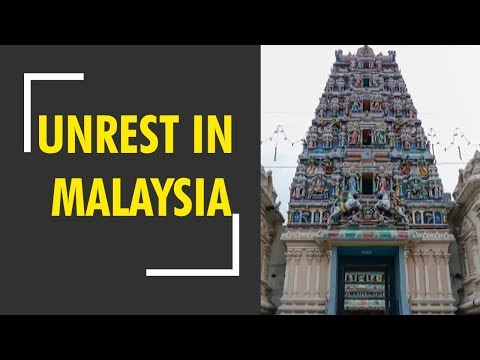Hindu Temple: (272, 46, 453, 318)
